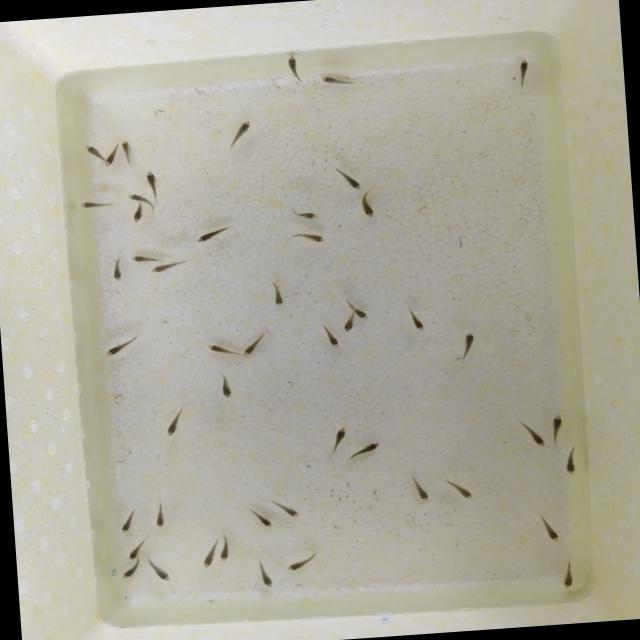fingerling: (222, 115, 258, 152), (324, 159, 364, 192), (437, 472, 480, 502), (103, 330, 146, 356), (239, 326, 273, 357), (160, 403, 190, 438), (511, 54, 537, 94), (282, 548, 322, 574), (317, 70, 363, 92), (192, 222, 238, 244), (280, 50, 308, 86), (531, 512, 562, 544), (406, 472, 434, 506), (242, 503, 274, 531), (516, 418, 544, 450), (142, 168, 166, 204), (248, 558, 275, 590), (556, 558, 582, 591), (452, 330, 478, 362), (286, 229, 327, 248), (546, 411, 568, 446), (558, 446, 582, 478), (348, 441, 384, 462), (265, 276, 287, 308), (124, 534, 151, 560), (75, 196, 118, 212), (198, 536, 218, 570), (148, 260, 190, 276), (354, 192, 378, 220), (214, 370, 236, 400), (403, 305, 426, 332), (116, 506, 138, 534), (151, 495, 169, 529), (331, 424, 347, 461), (146, 561, 172, 583), (320, 323, 340, 350), (276, 499, 300, 520), (118, 560, 143, 580), (288, 206, 319, 222), (108, 255, 126, 282), (217, 532, 233, 562), (204, 341, 232, 357), (120, 138, 134, 168), (104, 141, 118, 167), (82, 142, 100, 160), (342, 310, 355, 334), (128, 252, 158, 262), (130, 204, 144, 223), (354, 306, 370, 320), (125, 192, 142, 202)
